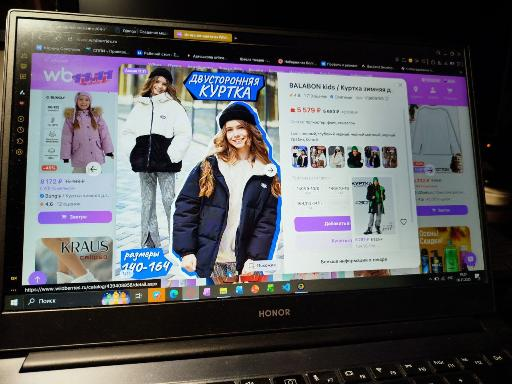wildberries: (30, 56, 483, 276)
